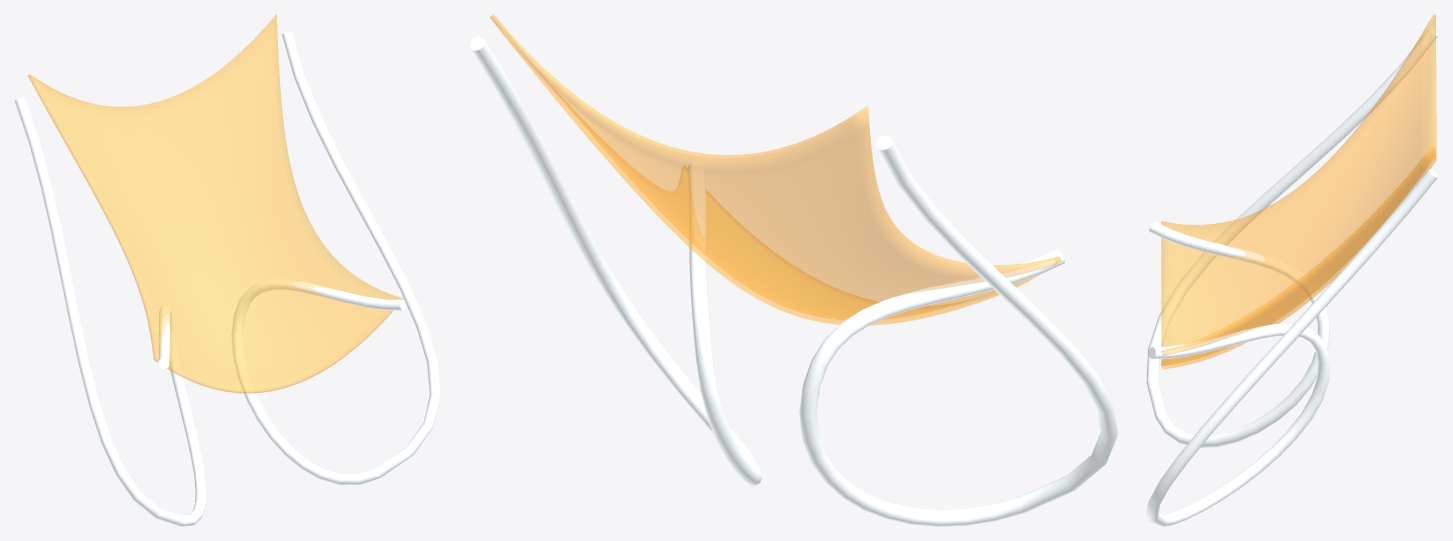
File: ref06_05.glb
The picture shows the model from 3 angles, left to right: view 1: azimuth 30°, elevation 25°; view 2: azimuth 150°, elevation 25°; view 3: azimuth 270°, elevation 25°; orthographic projection. The views are drawn at different scales.
Visible parts, largest first — view 1: ref06_05; view 2: ref06_05; view 3: ref06_05.
Part boxes in pixels (box(x1,y1,x2,y2)): ref06_05: box(14, 14, 440, 526); ref06_05: box(469, 14, 1117, 526); ref06_05: box(1146, 14, 1438, 526).
Size of the model in its own units: 0.9563 by 1.01 by 0.6654.
